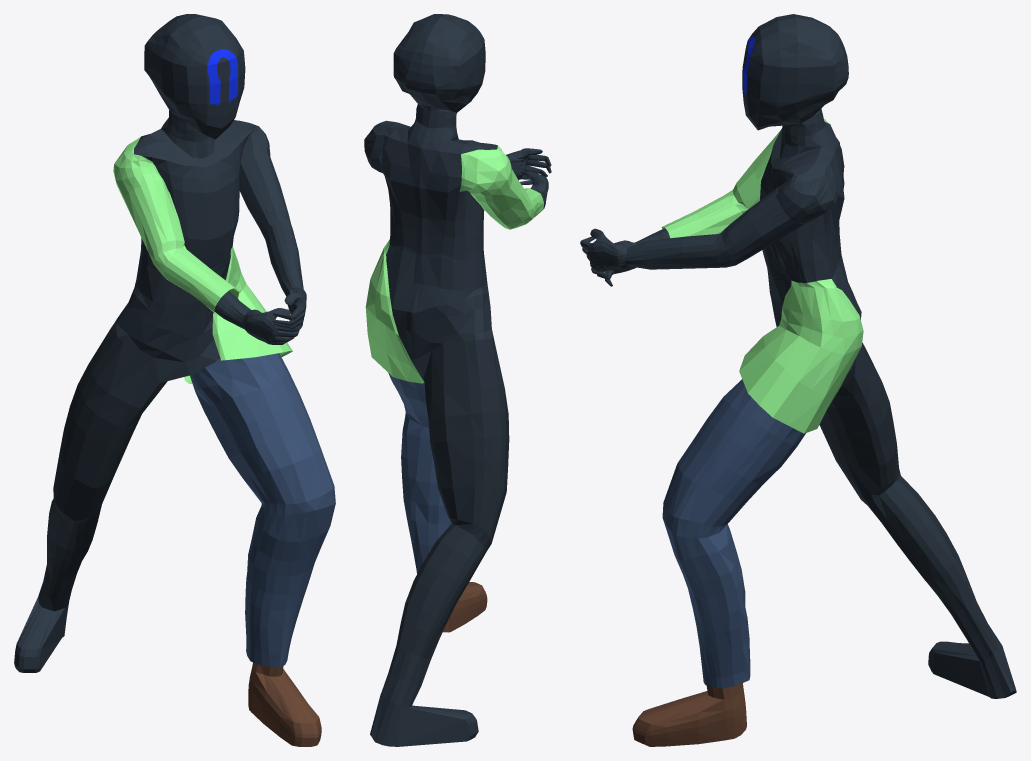
File: Mar_Attack_000035.obj
3 renders of one model, left to right at view 1: azimuth 30°, elevation 25°; view 2: azimuth 150°, elevation 25°; view 3: azimuth 270°, elevation 25°, orthographic. The views are drawn at different scales.
Visible parts, largest first — view 1: Cube.000_Cube.001; view 2: Cube.000_Cube.001; view 3: Cube.000_Cube.001.
Boxes of the visible parts, x1,y1,x2,y2 form: Cube.000_Cube.001: [14, 14, 335, 746]; Cube.000_Cube.001: [364, 14, 551, 746]; Cube.000_Cube.001: [580, 14, 1016, 746].
Size of the model in its own units: 1.1 by 3.71 by 2.08.
